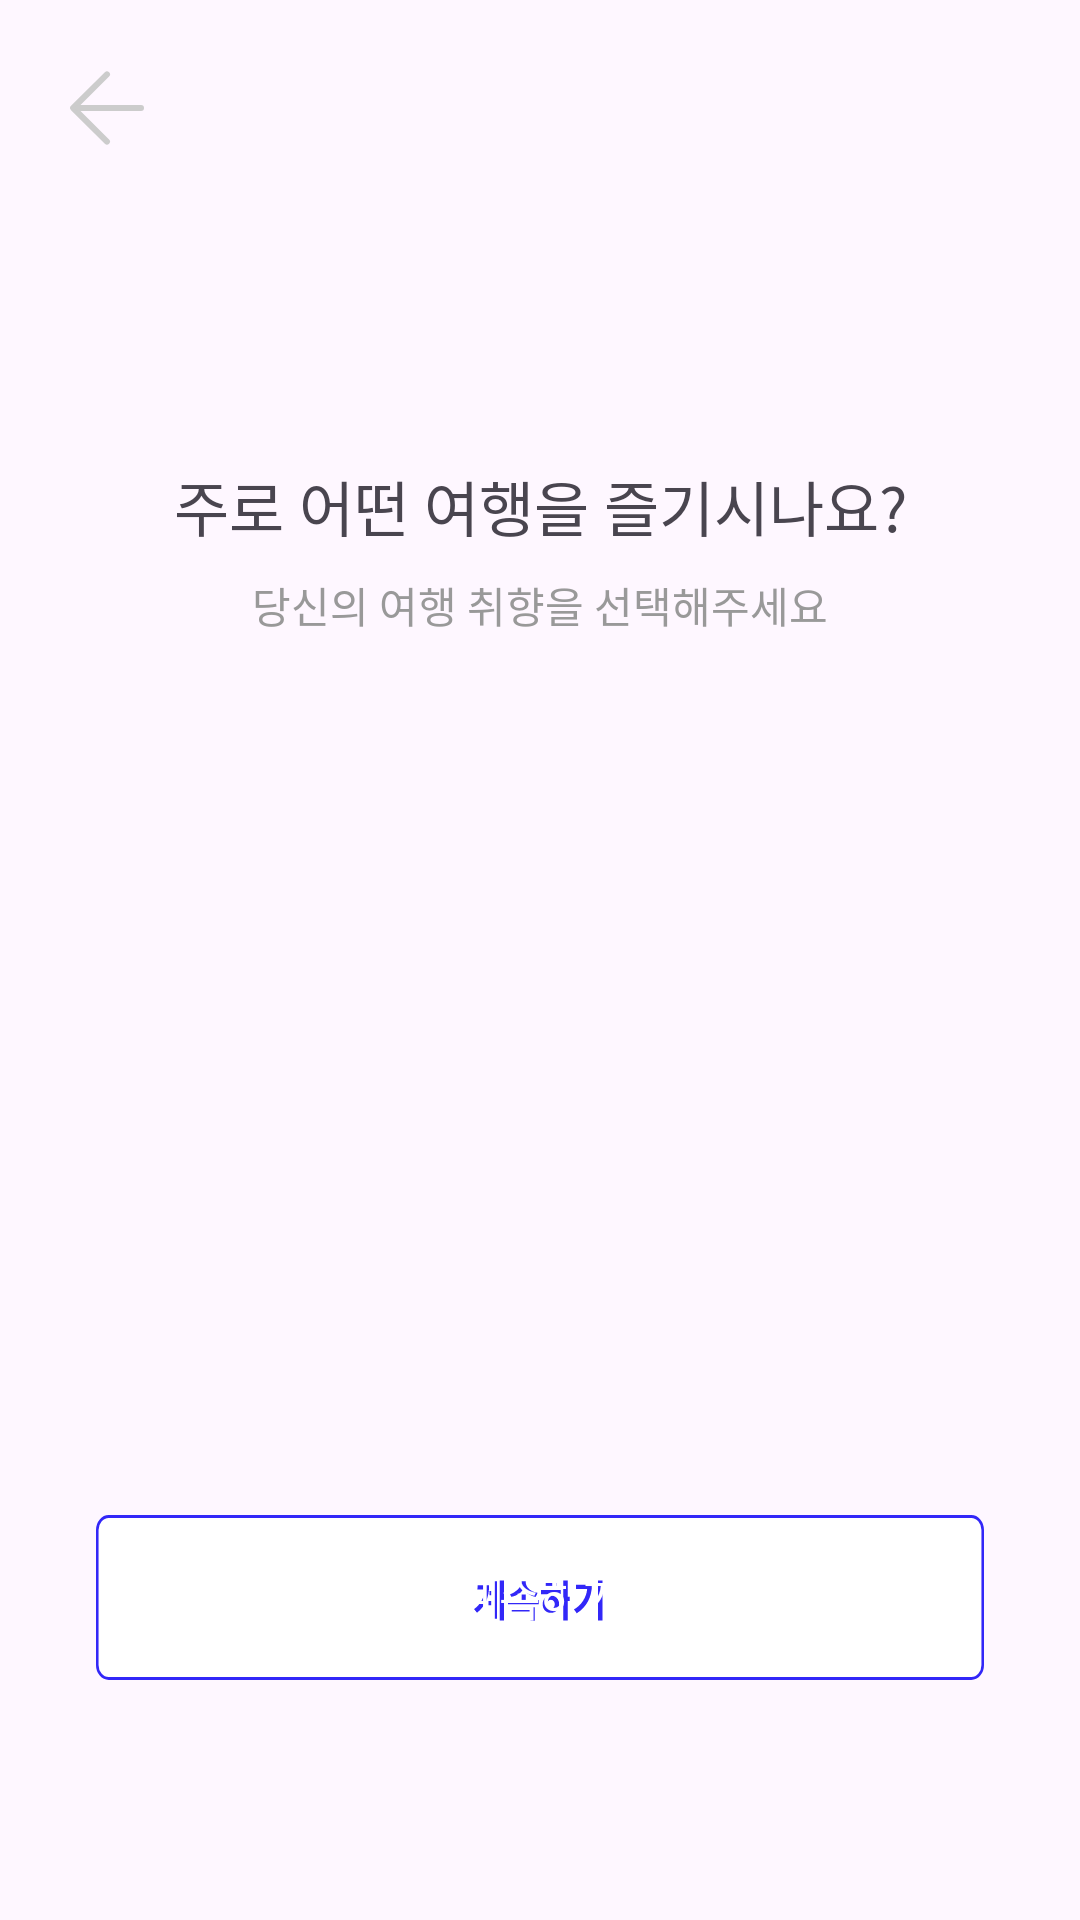

Named icons in this screenshot (1080 x 1920) and their bounding boxes, (x1, y1, x2, y2):
navigation: (70, 71, 144, 145)
